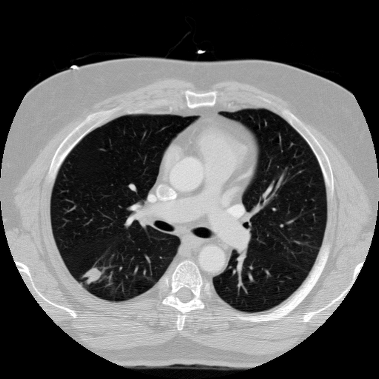nodule: (85, 268, 99, 282)
